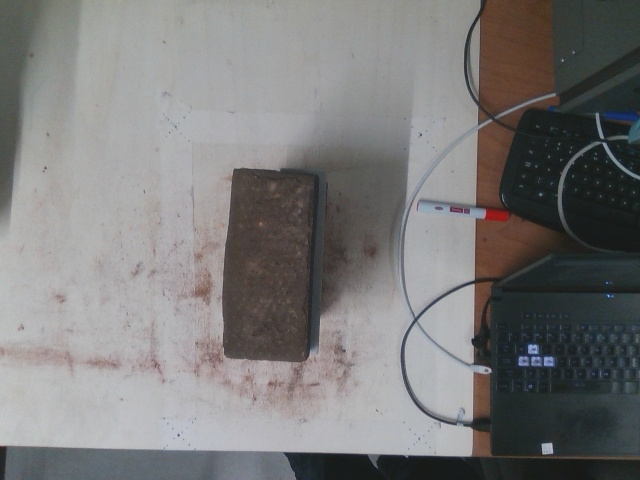brick: (227, 169, 306, 360)
